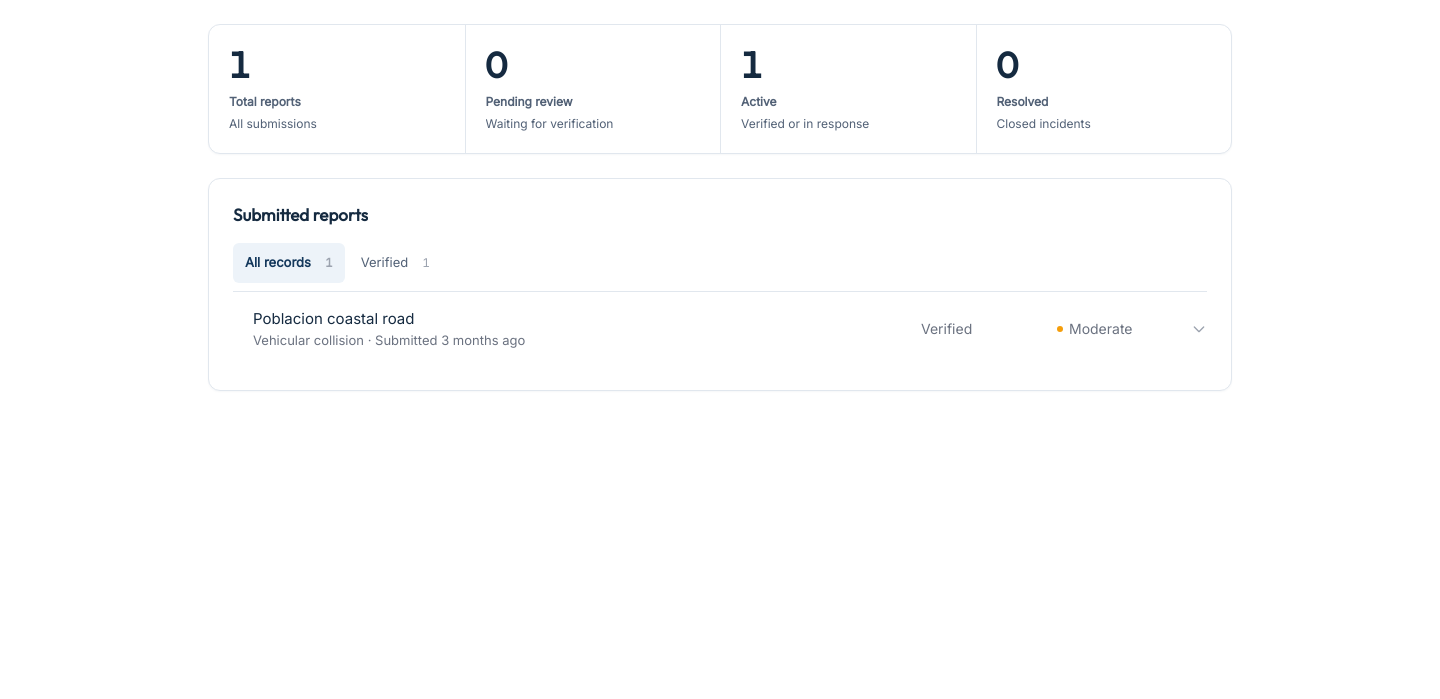
Scenario: reporter situation update flow › synchronizes reporter updates received from another signed-in device
The width and height of the screenshot is (1440, 699).
Click the heading "Poblacion coastal road" at (334, 318), box 253,309 -> 414,328
(page scrolled)
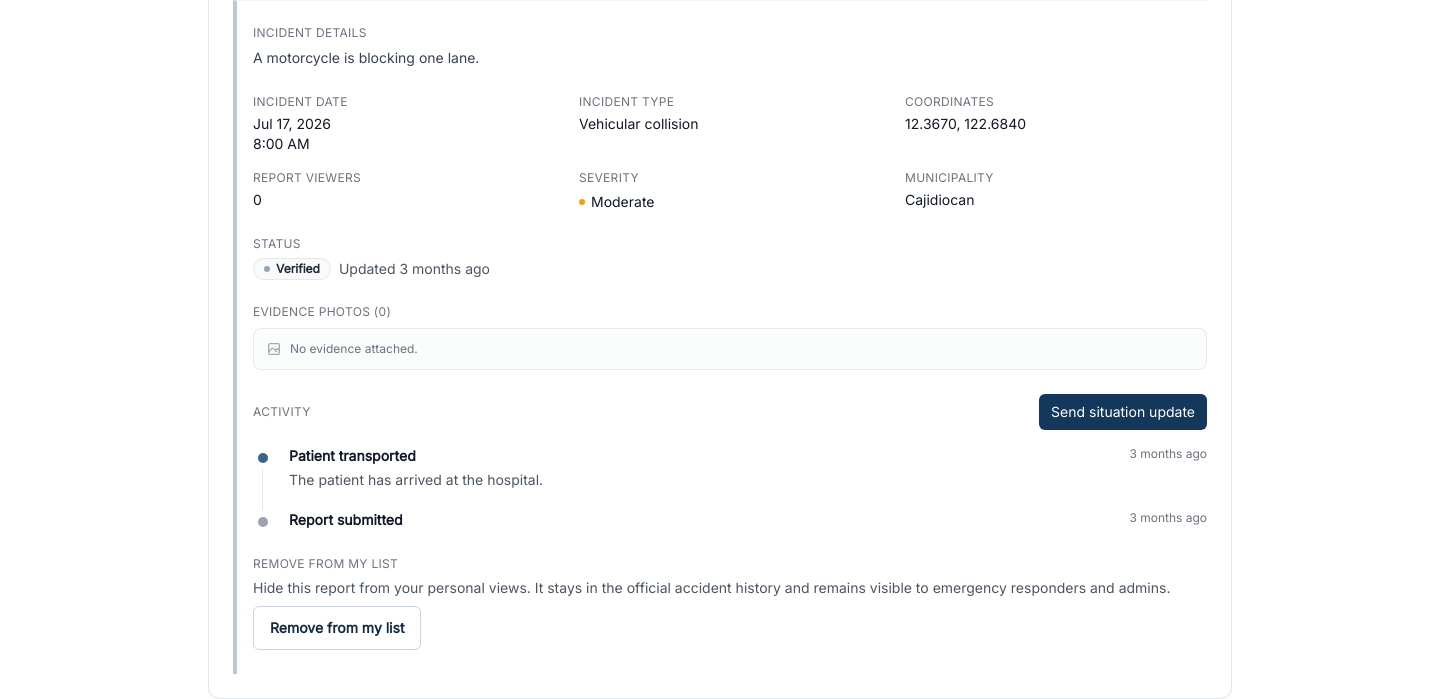
Expected: the text "The patient has arrived at the hospital." is shown, 289,471 -> 543,488
Expected: the text "Patient transported" is shown, 289,446 -> 416,466
